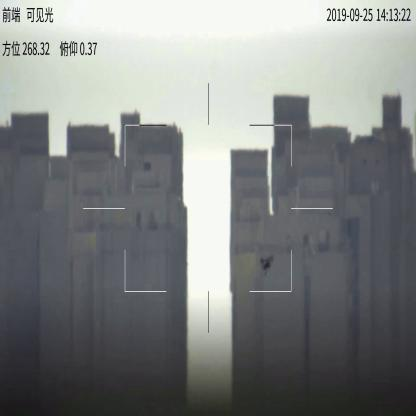uav: (260, 255, 276, 276)
